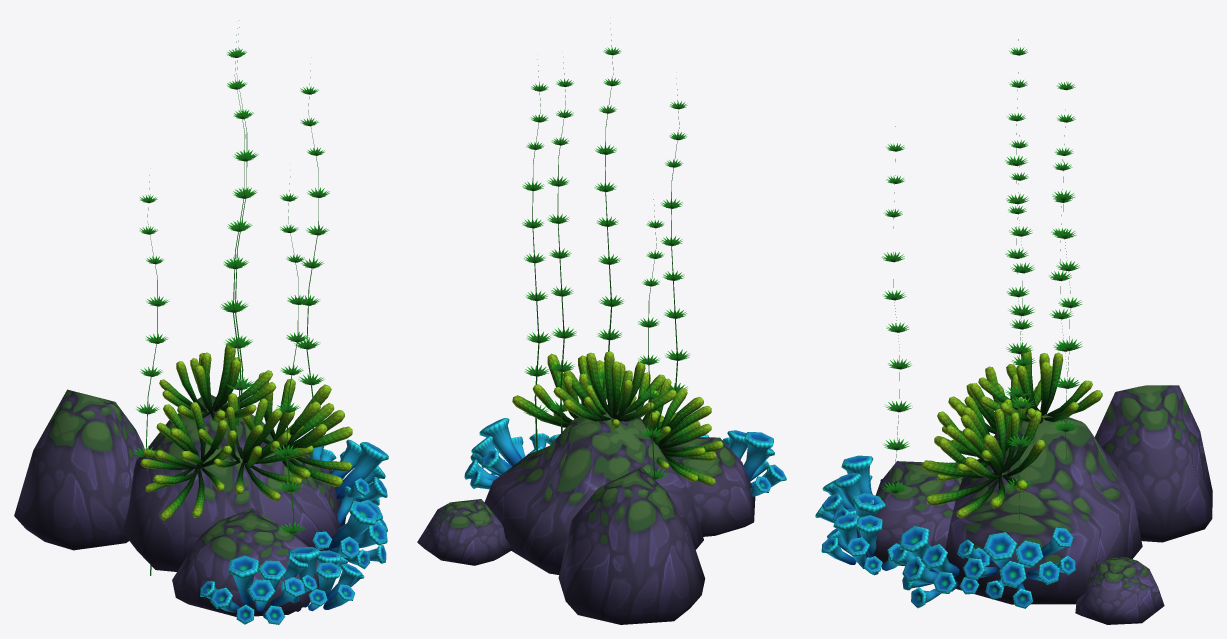
Rendered from CoralSet_03.FBX.
3 views of the same model, side by side, from view 1: azimuth 30°, elevation 25°; view 2: azimuth 150°, elevation 25°; view 3: azimuth 270°, elevation 25° (orthographic). The views are drawn at different scales.
Parts seen in each view (by area): view 1: CoralSet_03, Line247, Line272, Line260, Line233, Line246, Line273, Line271, Line274, Plane336, Plane332, Plane334 (+2 smaller); view 2: CoralSet_03, Line233, Line260, Line274, Line272, Line247, Plane333, Plane334, Plane332, Plane336, Plane335, Line246; view 3: CoralSet_03, Line247, Line274, Line273, Line233, Line271, Line272, Line246, Plane333, Plane336, Plane332, Plane334 (+2 smaller).
Part boxes in pixels (x1=…): CoralSet_03: x1=14, y1=389, x2=346, y2=616; Line247: x1=241, y1=372, x2=352, y2=486; Line272: x1=200, y1=552, x2=317, y2=624; Line260: x1=140, y1=402, x2=232, y2=520; Line233: x1=159, y1=342, x2=276, y2=422; Line246: x1=197, y1=393, x2=313, y2=500; Line273: x1=312, y1=486, x2=387, y2=569; Line271: x1=281, y1=547, x2=364, y2=611; Line274: x1=309, y1=439, x2=388, y2=505; Plane336: x1=274, y1=170, x2=309, y2=538; Plane332: x1=220, y1=28, x2=256, y2=421; Plane334: x1=294, y1=70, x2=329, y2=459; CoralSet_03: x1=417, y1=407, x2=755, y2=624; Line233: x1=553, y1=351, x2=676, y2=428; Line260: x1=647, y1=378, x2=723, y2=485; Line274: x1=464, y1=418, x2=549, y2=489; Line272: x1=701, y1=430, x2=786, y2=496; Line247: x1=512, y1=353, x2=636, y2=427; Plane333: x1=547, y1=62, x2=576, y2=441; Plane334: x1=522, y1=59, x2=551, y2=451; Plane332: x1=594, y1=23, x2=623, y2=379; Plane336: x1=660, y1=78, x2=689, y2=392; Plane335: x1=638, y1=199, x2=667, y2=479; Line246: x1=578, y1=362, x2=685, y2=431; CoralSet_03: x1=856, y1=385, x2=1212, y2=624; Line247: x1=922, y1=409, x2=1045, y2=518; Line274: x1=957, y1=527, x2=1075, y2=608; Line273: x1=892, y1=526, x2=989, y2=608; Line233: x1=978, y1=347, x2=1102, y2=423; Line271: x1=821, y1=493, x2=902, y2=575; Line272: x1=815, y1=455, x2=882, y2=522; Line246: x1=922, y1=396, x2=1027, y2=481; Plane333: x1=1052, y1=81, x2=1082, y2=459; Plane336: x1=881, y1=126, x2=912, y2=497; Plane332: x1=1005, y1=39, x2=1034, y2=400; Plane334: x1=1005, y1=135, x2=1036, y2=520.
Size of the model in its own units: 363 by 665 by 419.
